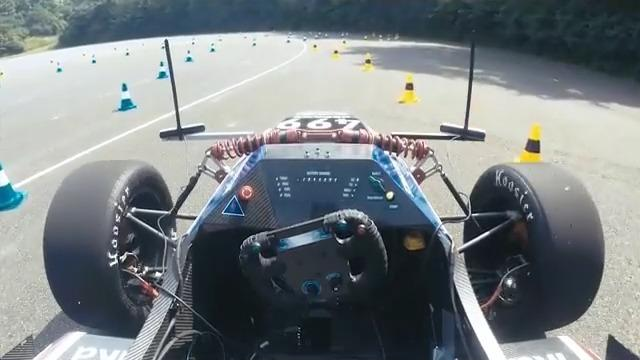blue_cone: (0, 146, 28, 212), (115, 82, 138, 110), (156, 59, 168, 79), (184, 50, 194, 64), (55, 63, 63, 73), (209, 42, 216, 53), (251, 37, 258, 46), (90, 53, 96, 63), (125, 48, 130, 57), (287, 35, 291, 43), (303, 35, 307, 42)
yellow_cone: (514, 125, 556, 184), (403, 75, 419, 107), (361, 52, 375, 72), (330, 48, 340, 62), (312, 43, 319, 53), (49, 57, 54, 67), (82, 51, 87, 61)
